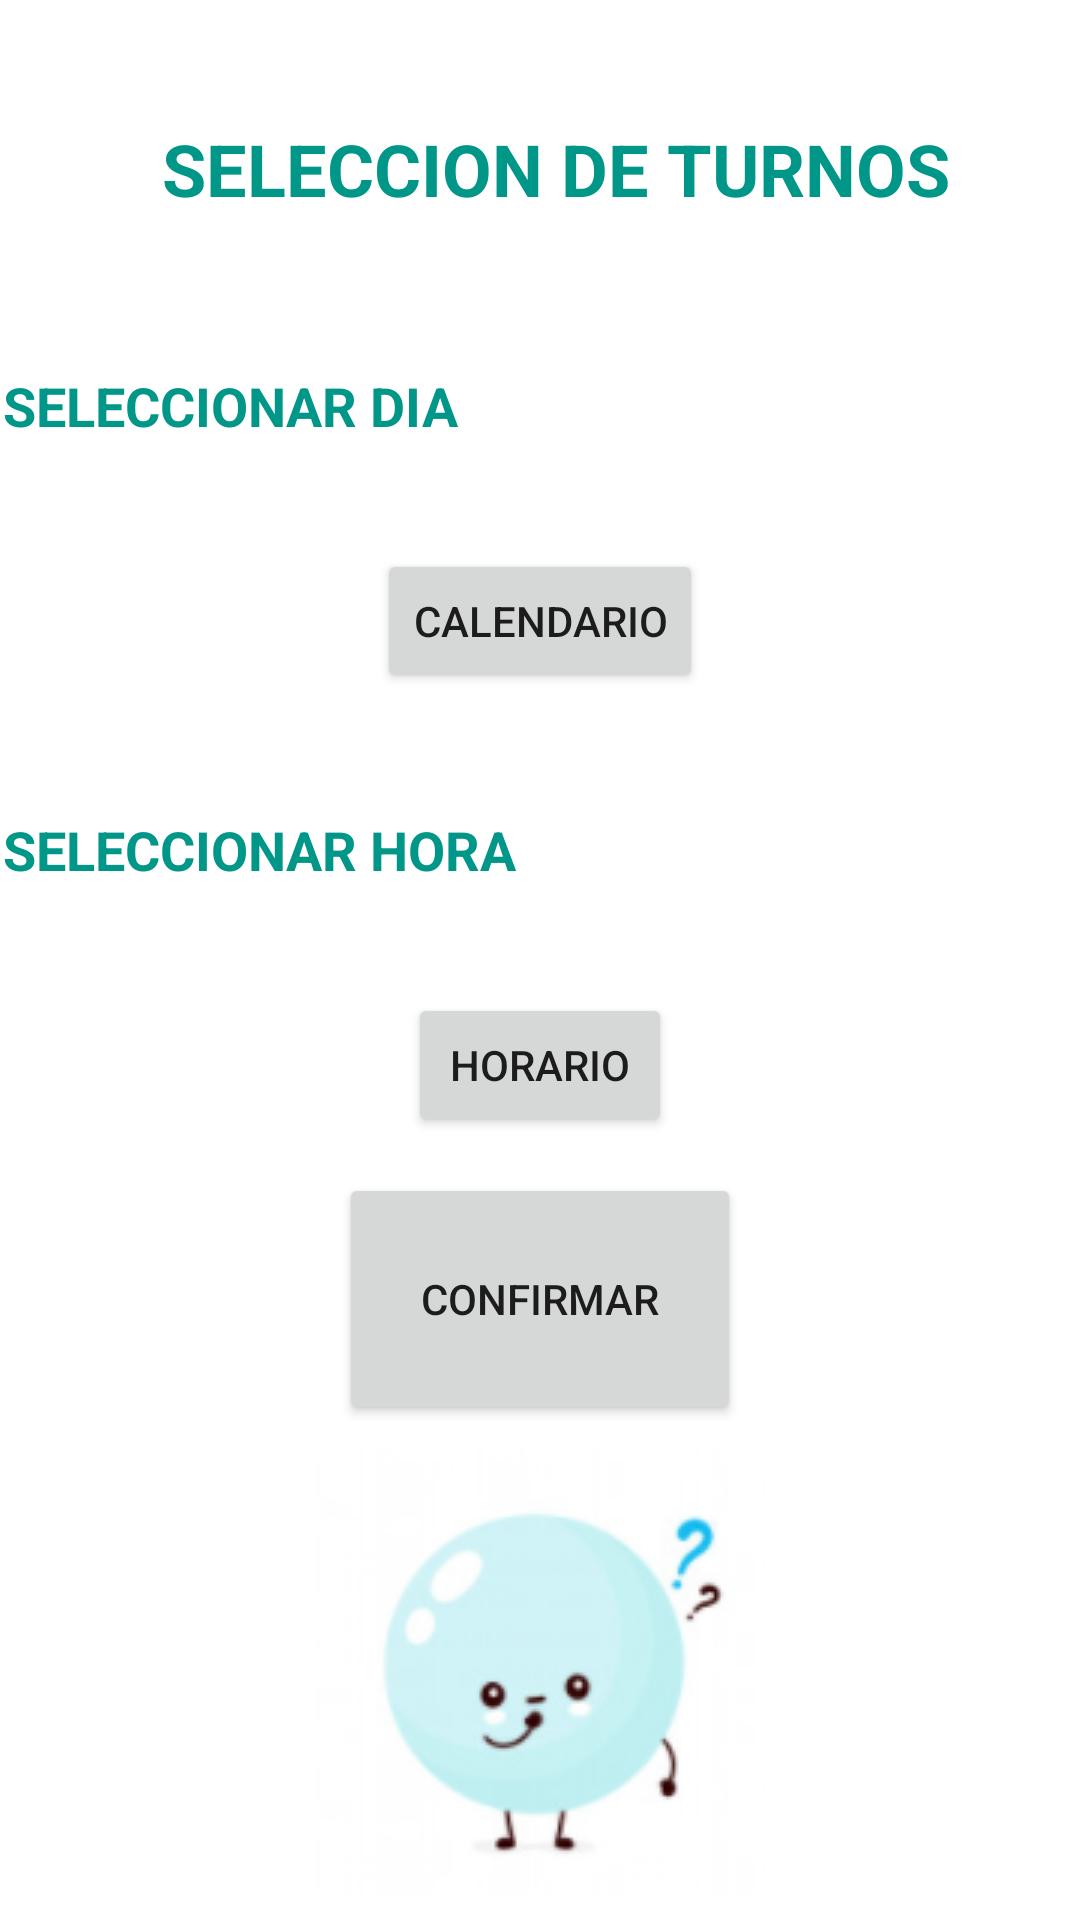

Locate icon controls on the screen. Image size 1080×1920, boxes as (x1, y1, x2, y2).
pregunta: (385, 1514, 722, 1852)
